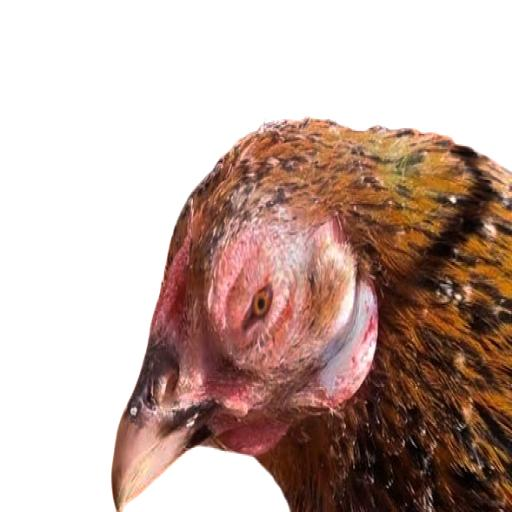disease: (212, 226, 310, 380)
